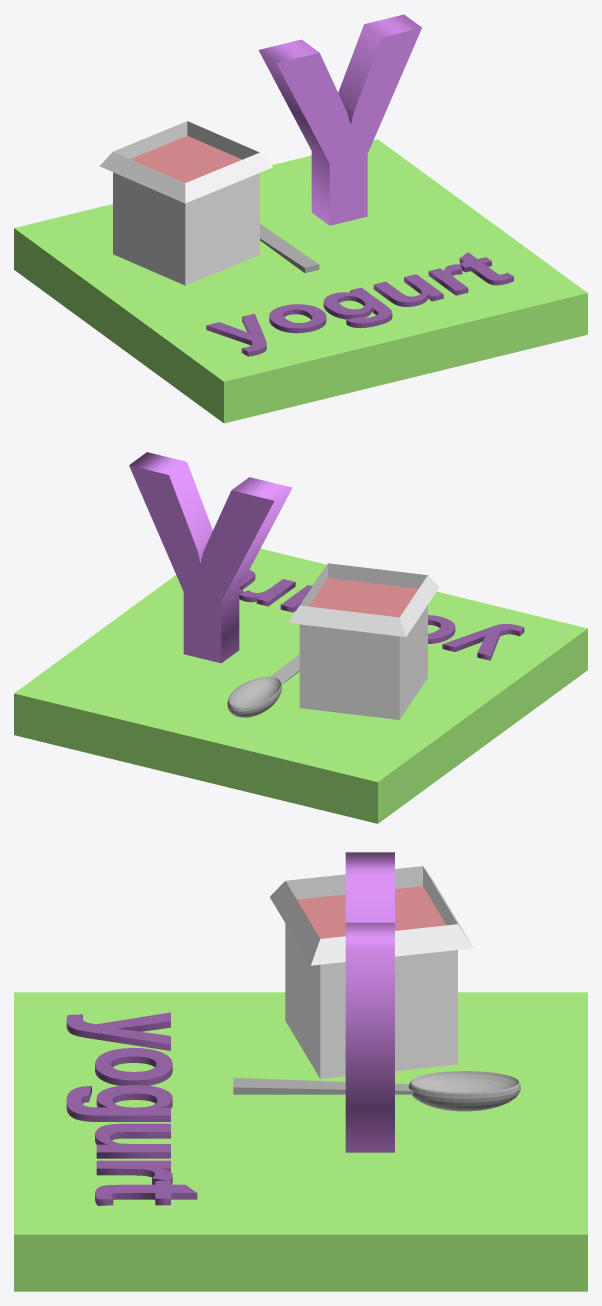
Rendered from yletter.glb.
3 views of the same model, one above another, from view 1: azimuth 30°, elevation 25°; view 2: azimuth 150°, elevation 25°; view 3: azimuth 270°, elevation 25° (orthographic). The views are drawn at different scales.
Parts seen in each view (by area): view 1: Cube.022, Cube.001, Text.003, Text.002, Sphere.001; view 2: Cube.022, Cube.001, Text.003, Text.002, Sphere.001; view 3: Cube.022, Cube.001, Text.003, Text.002, Sphere.001.
Boxes of the visible parts, box(x1,y1,x2,y2) form: Cube.022: box(14, 139, 587, 423); Cube.001: box(99, 121, 272, 285); Text.003: box(258, 14, 421, 225); Text.002: box(206, 252, 513, 356); Sphere.001: box(260, 224, 319, 273); Cube.022: box(14, 548, 587, 823); Cube.001: box(288, 563, 439, 719); Text.003: box(129, 452, 292, 663); Text.002: box(239, 570, 524, 660); Sphere.001: box(227, 654, 299, 717); Cube.022: box(14, 992, 587, 1291); Cube.001: box(270, 866, 473, 1078); Text.003: box(345, 852, 394, 1152); Text.002: box(66, 1012, 197, 1205); Sphere.001: box(233, 1071, 520, 1111).
Size of the model in its own units: 0.3237 by 0.1946 by 0.3237.
